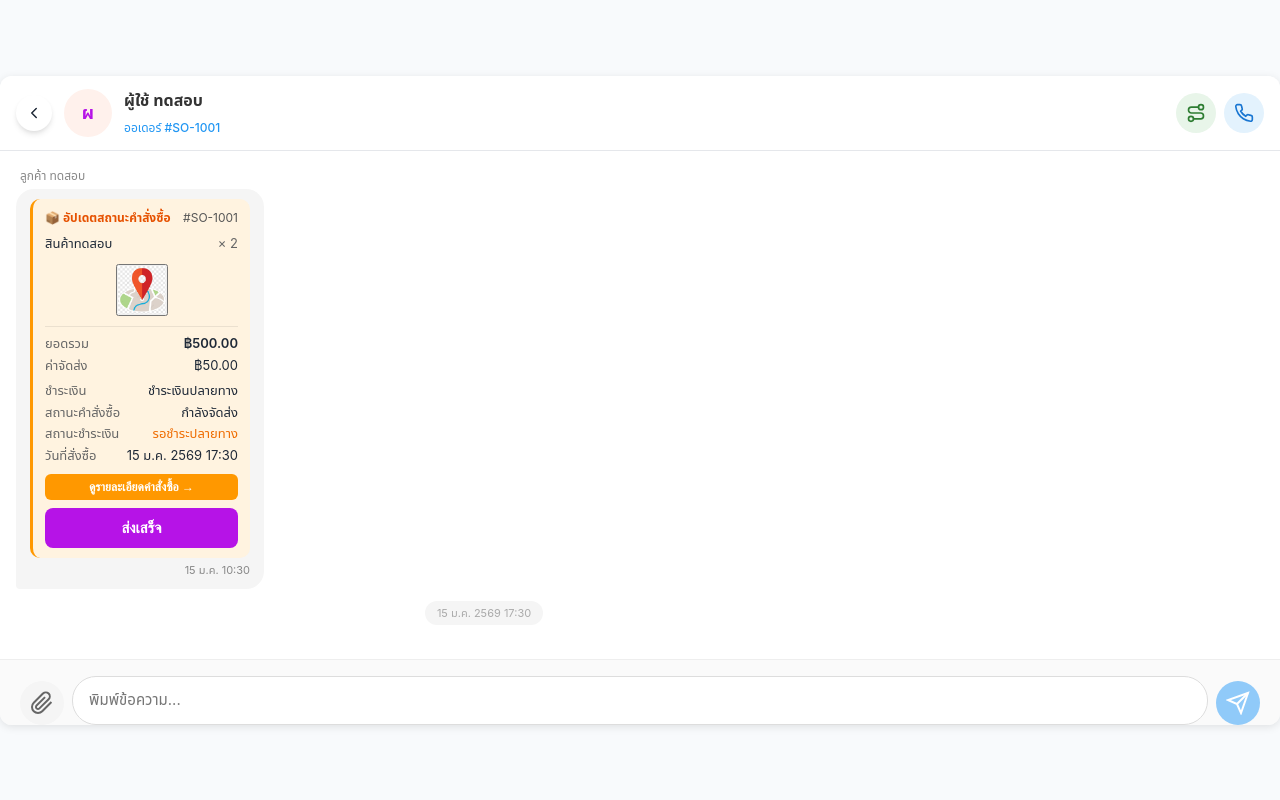
Scenario: ChatRoom - ส่งเสร็จออเดอร์ (สถานะชำระเงิน COD) › KBZPay กดส่งเสร็จแล้วสถานะชำระเงินต้องคงเดิม (ตรวจสอบแล้ว), ไม่เปลี่ยนเป็น ชำระแล้ว
The width and height of the screenshot is (1280, 800).
Click the button "ส่งเสร็จ" at (142, 528), box [45,508,238,548]
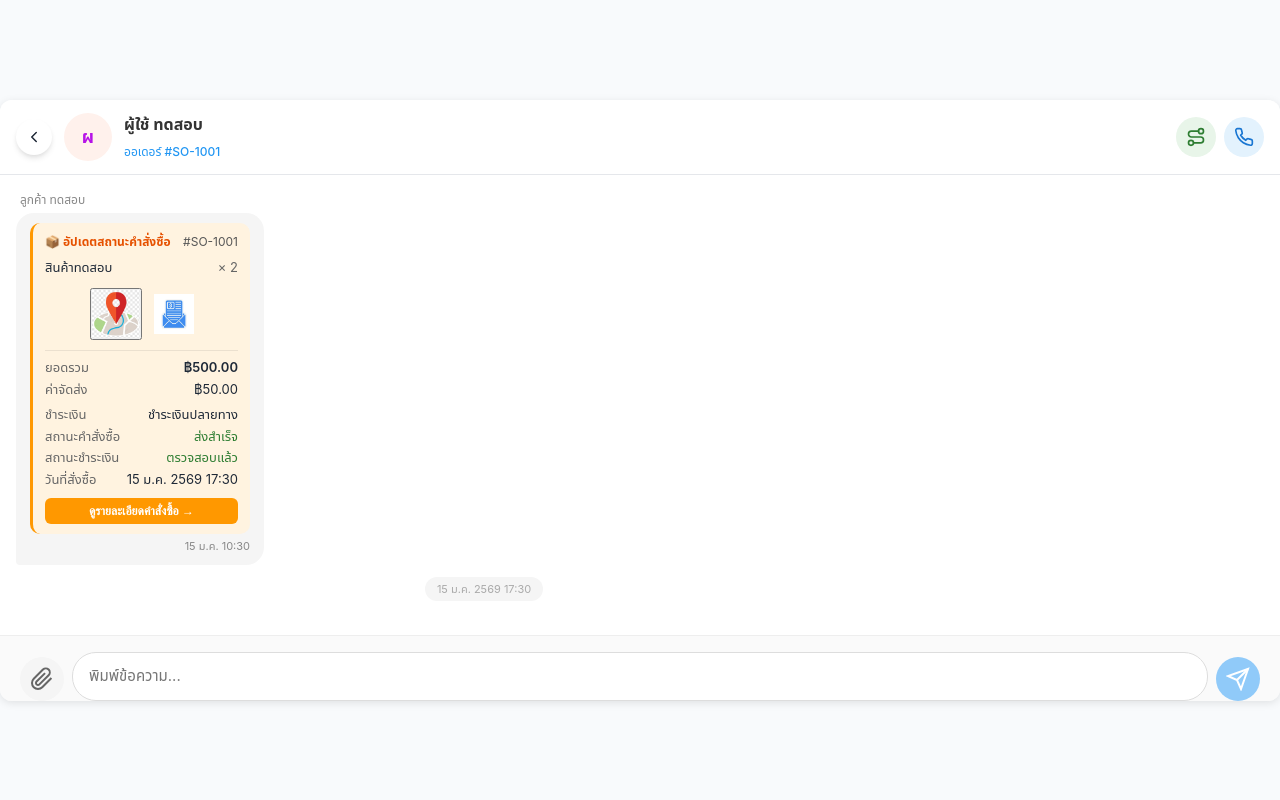
Now the text "ตรวจสอบแล้ว" is shown, box [166,448,238,468]
